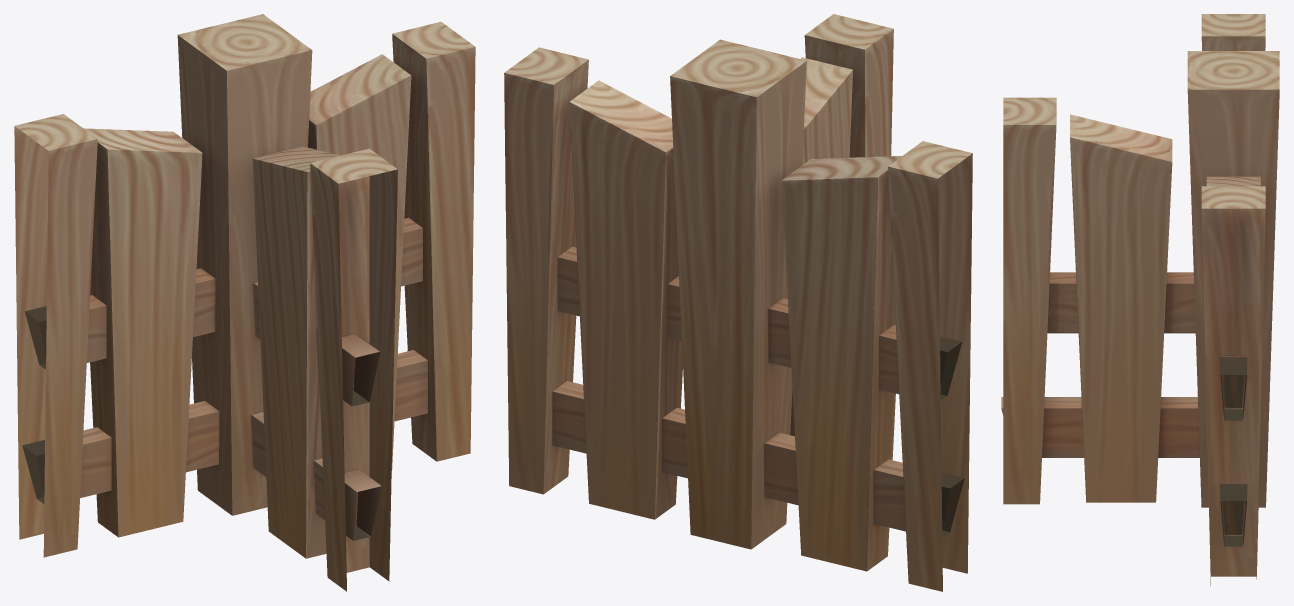
Rendered from fence2_corner3.obj.
The picture shows the model from 3 angles, left to right: view 1: azimuth 30°, elevation 25°; view 2: azimuth 150°, elevation 25°; view 3: azimuth 270°, elevation 25°; orthographic projection. The views are drawn at different scales.
Parts seen in each view (by area): view 1: fence2_corner3; view 2: fence2_corner3; view 3: fence2_corner3.
Boxes of the visible parts, x1,y1,x2,y2 form: fence2_corner3: (14,14,475,591); fence2_corner3: (504,14,972,591); fence2_corner3: (1001,14,1279,585).
Bounding box in the file's own units: 50.49 × 50.83 × 30.25.
